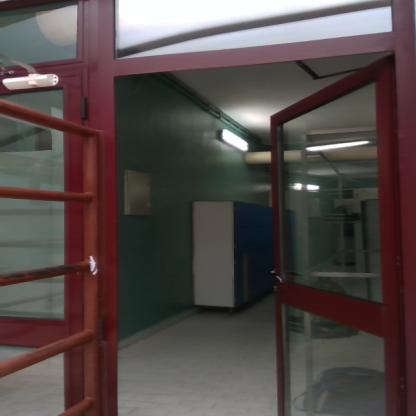semi: (101, 23, 416, 416)
